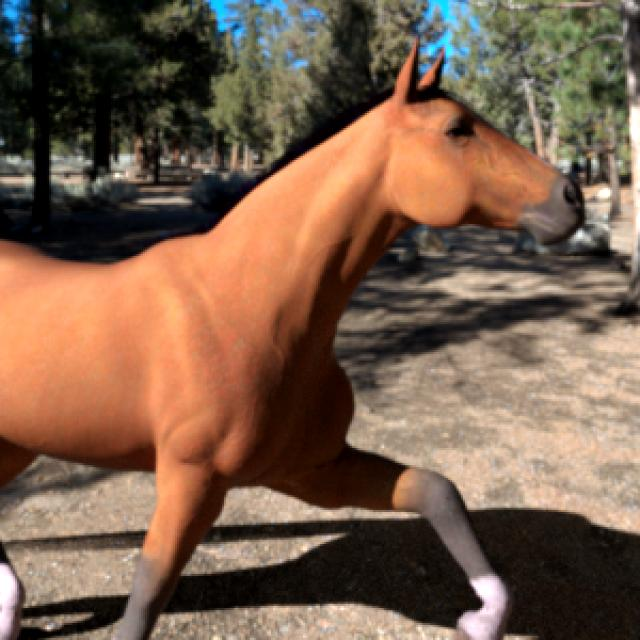horse: (0, 44, 582, 640)
